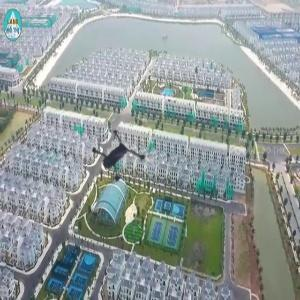drone: (81, 125, 158, 202)
